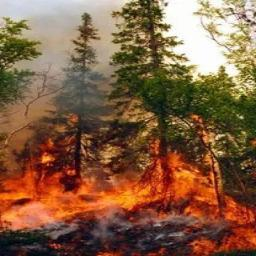Low smoke: (7, 11, 136, 118)
Medium fire: (6, 121, 230, 218)
Small fire: (60, 228, 256, 256)
